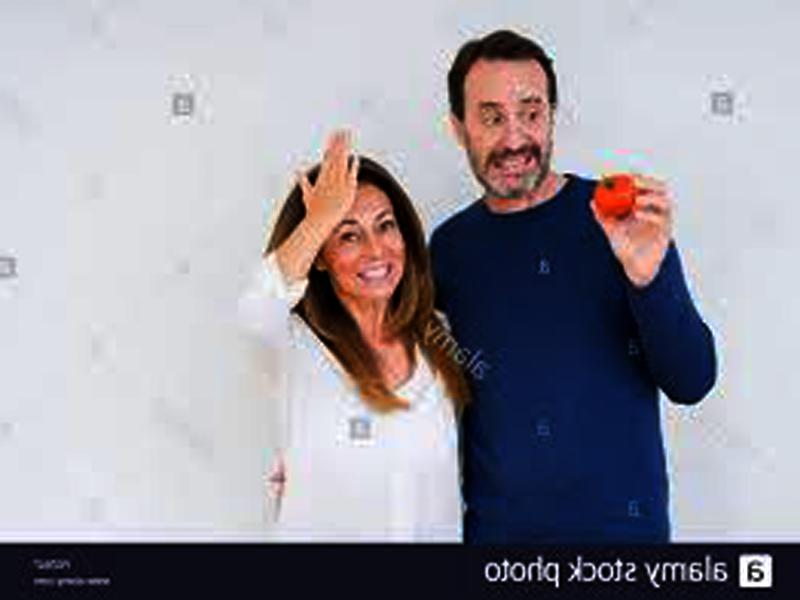Tomato: (594, 171, 634, 215)
